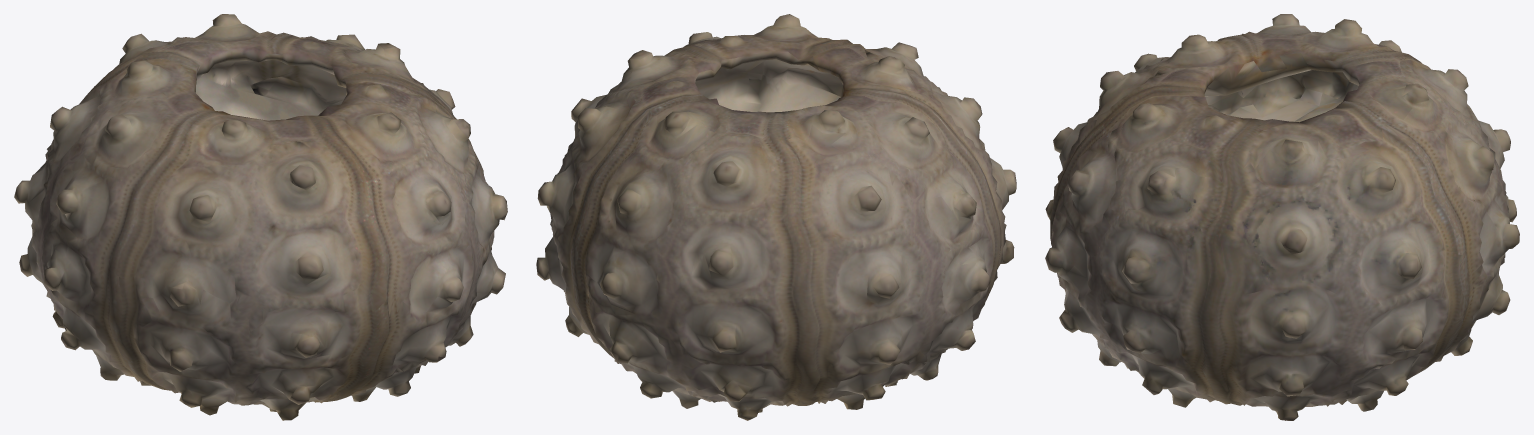
File: sputnik-urchin-Phyllacanthus-imperialis-205.14_FBX_still.fbx
The picture shows the model from 3 angles, left to right: view 1: azimuth 30°, elevation 25°; view 2: azimuth 150°, elevation 25°; view 3: azimuth 270°, elevation 25°; orthographic projection.
Visible parts, largest first — view 1: sputnik-urchin-Phyllacanthus-imperialis-205.14_gameasset; view 2: sputnik-urchin-Phyllacanthus-imperialis-205.14_gameasset; view 3: sputnik-urchin-Phyllacanthus-imperialis-205.14_gameasset.
Boxes of the visible parts, x1=… form: sputnik-urchin-Phyllacanthus-imperialis-205.14_gameasset: x1=14, y1=14, x2=507, y2=420; sputnik-urchin-Phyllacanthus-imperialis-205.14_gameasset: x1=536, y1=14, x2=1016, y2=420; sputnik-urchin-Phyllacanthus-imperialis-205.14_gameasset: x1=1045, y1=14, x2=1519, y2=420.
Bounding box in the file's own units: 75.83 × 51.16 × 73.11.
Materials: 1 (1 with a texture image).
